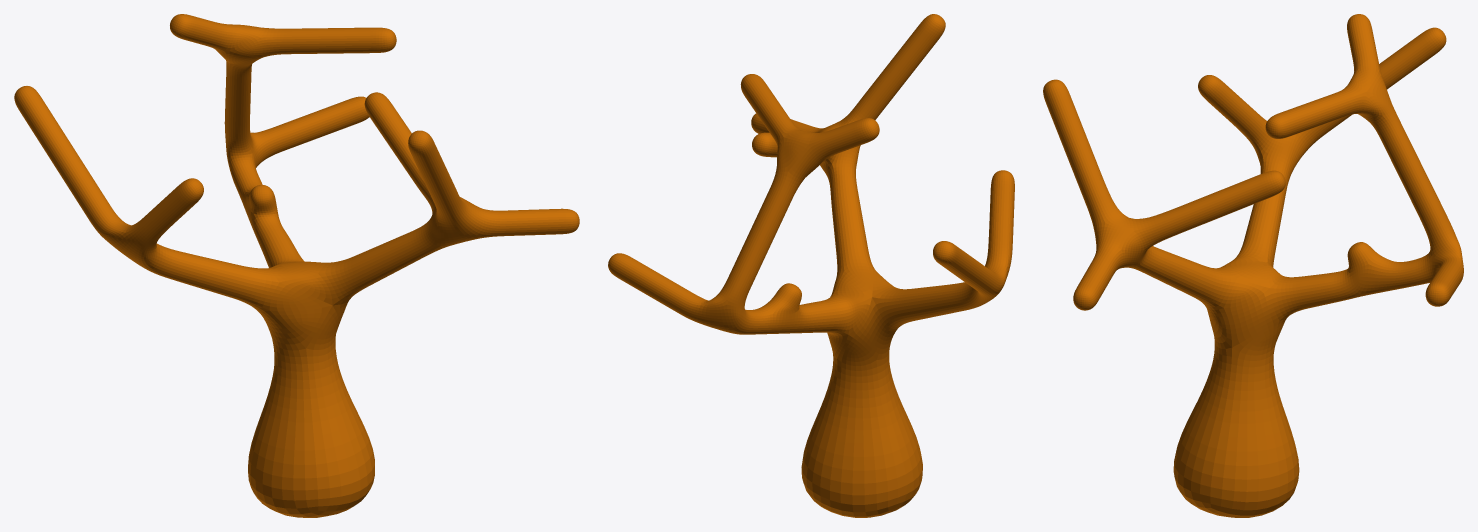
Rendered from BareTree.fbx.
3 views of the same model, side by side, from view 1: azimuth 30°, elevation 25°; view 2: azimuth 150°, elevation 25°; view 3: azimuth 270°, elevation 25° (orthographic). The views are drawn at different scales.
Parts seen in each view (by area): view 1: 平面.042; view 2: 平面.042; view 3: 平面.042.
Boxes of the visible parts, x1,y1,x2,y2 form: 平面.042: [14, 14, 579, 517]; 平面.042: [608, 14, 1014, 517]; 平面.042: [1043, 14, 1463, 517].
Size of the model in its own units: 810 by 933 by 773.
